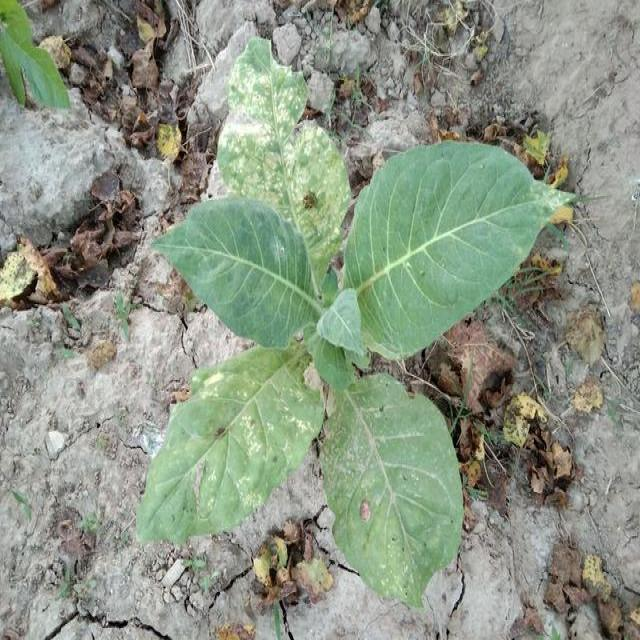crop: (140, 37, 572, 618)
